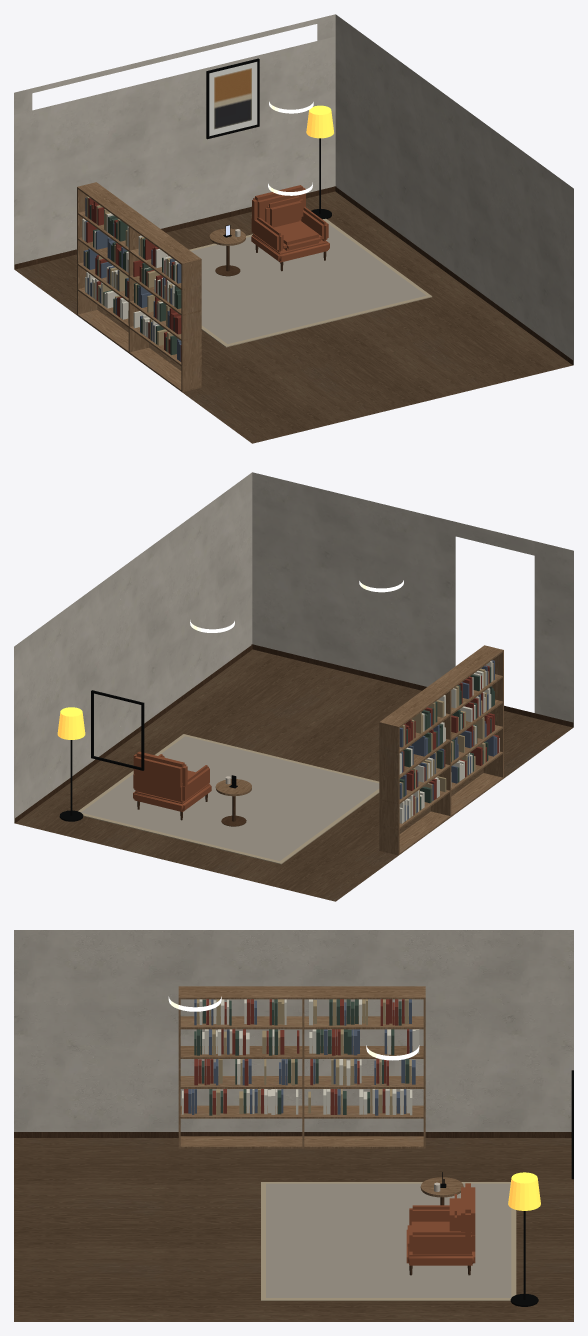
File: room-android.glb
The picture shows the model from 3 angles, top to bottom: view 1: azimuth 30°, elevation 25°; view 2: azimuth 150°, elevation 25°; view 3: azimuth 270°, elevation 25°; orthographic projection. The views are drawn at different scales.
Visible parts, largest first — view 1: android_shell, android_hard, android_soft, map_table, glow_android_lamp; view 2: android_shell, android_soft, android_hard, map_table, glow_android_lamp; view 3: android_shell, android_hard, android_soft, glow_android_lamp, map_table, glow_android_panels.
Boxes of the visible parts, left/top/right/bottom form: android_shell: left=14, top=14, right=573, bottom=443; android_hard: left=77, top=58, right=331, bottom=392; android_soft: left=168, top=185, right=432, bottom=347; map_table: left=209, top=225, right=245, bottom=276; glow_android_lamp: left=306, top=105, right=333, bottom=138; android_shell: left=14, top=472, right=573, bottom=901; android_soft: left=78, top=734, right=379, bottom=864; android_hard: left=59, top=645, right=503, bottom=855; map_table: left=215, top=775, right=251, bottom=826; glow_android_lamp: left=57, top=707, right=85, bottom=739; android_shell: left=14, top=930, right=573, bottom=1321; android_hard: left=178, top=986, right=573, bottom=1306; android_soft: left=261, top=1182, right=516, bottom=1300; glow_android_lamp: left=508, top=1172, right=540, bottom=1210; map_table: left=420, top=1172, right=463, bottom=1205; glow_android_panels: left=168, top=996, right=419, bottom=1060.
Size of the model in its own units: 5.3 by 2.78 by 6.8.
19 materials, 5 textured.
